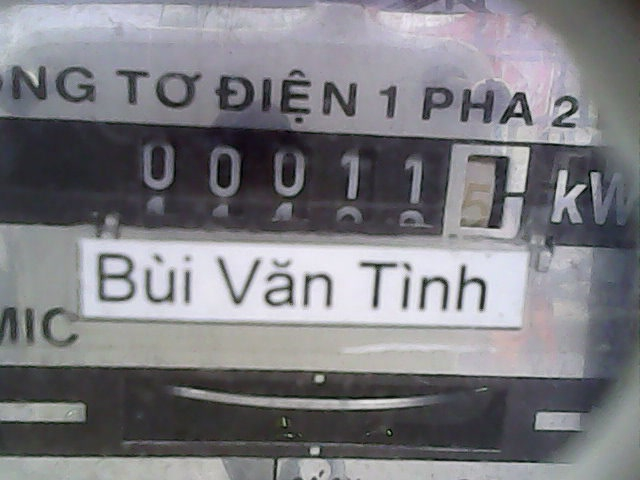phy_plate: (132, 118, 539, 244)
